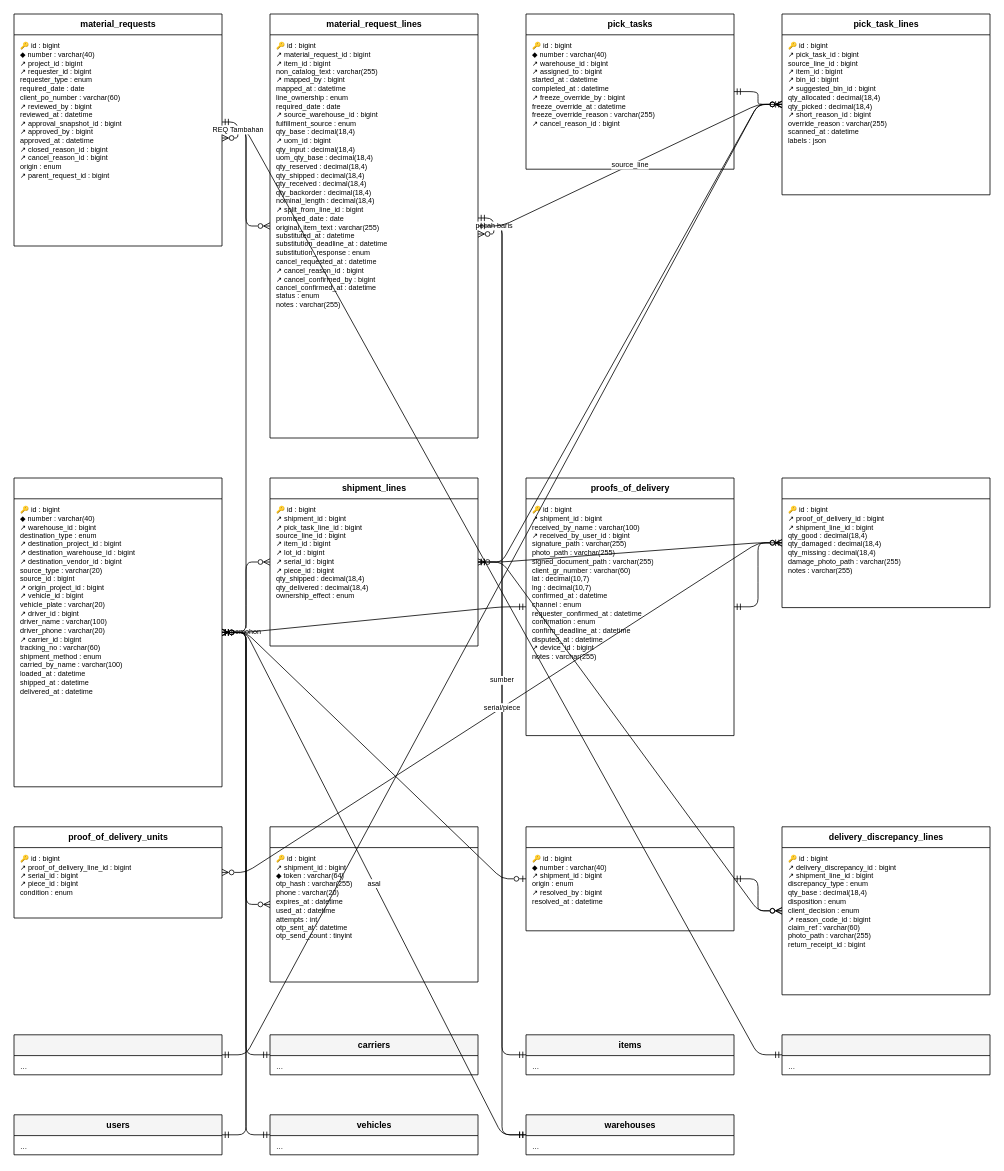
Some shapes in this 1004 by 1171 pixel diagram are drawn without their labels. The shapes that lost their labels are listed below. From the top down, each one's box as (x1, y1, x2, y2) in pixels, then its label:
(781, 477, 990, 608): proof_of_delivery_lines
(13, 477, 222, 787): shipments
(525, 826, 734, 931): delivery_discrepancies
(269, 826, 478, 982): delivery_tokens
(13, 1034, 222, 1075): bins
(781, 1034, 990, 1075): projects
